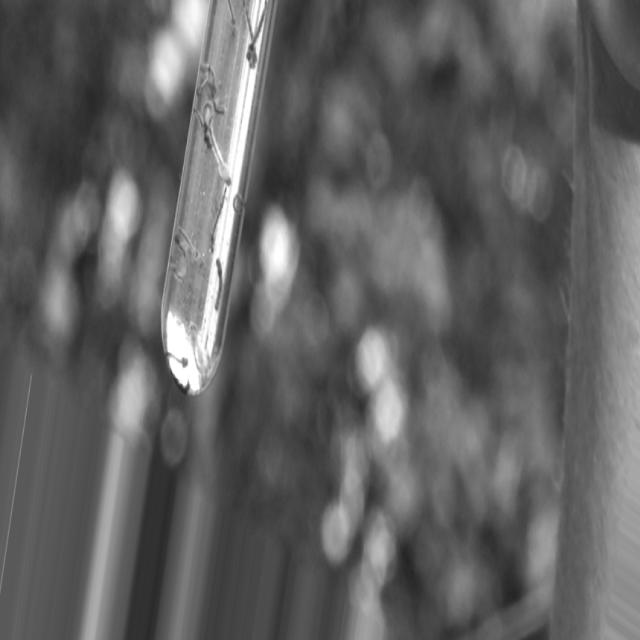larvas: (207, 123, 234, 190), (178, 222, 209, 275), (244, 1, 269, 62), (197, 77, 229, 123), (240, 0, 260, 66), (210, 184, 226, 249), (190, 326, 210, 374), (169, 234, 187, 281), (194, 105, 212, 150), (200, 58, 222, 93), (213, 254, 225, 312), (225, 0, 239, 39), (200, 103, 214, 128), (166, 353, 188, 368), (232, 193, 245, 212)
